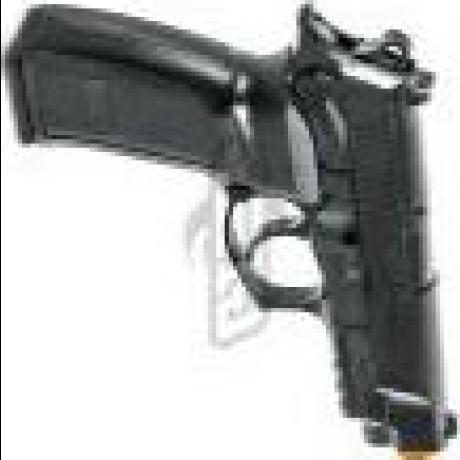weapon: (7, 3, 452, 459)
